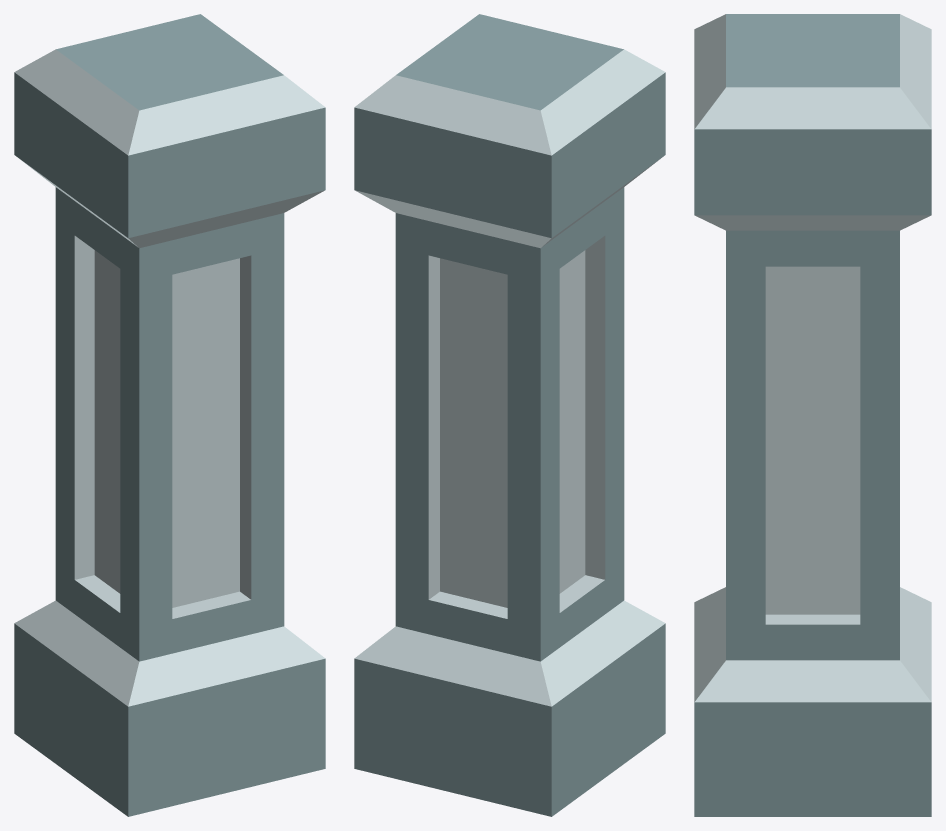
File: statue_column.glb
The picture shows the model from 3 angles, left to right: view 1: azimuth 30°, elevation 25°; view 2: azimuth 150°, elevation 25°; view 3: azimuth 270°, elevation 25°; orthographic projection. The views are drawn at different scales.
Parts seen in each view (by area): view 1: statue_column; view 2: statue_column; view 3: statue_column.
Part boxes in pixels (x1=…): statue_column: x1=14, y1=14, x2=325, y2=816; statue_column: x1=354, y1=14, x2=665, y2=816; statue_column: x1=694, y1=14, x2=931, y2=816.
Size of the model in its own units: 0.3485 by 1.16 by 0.3485.
